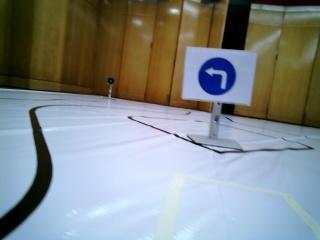left: (189, 51, 243, 99)
